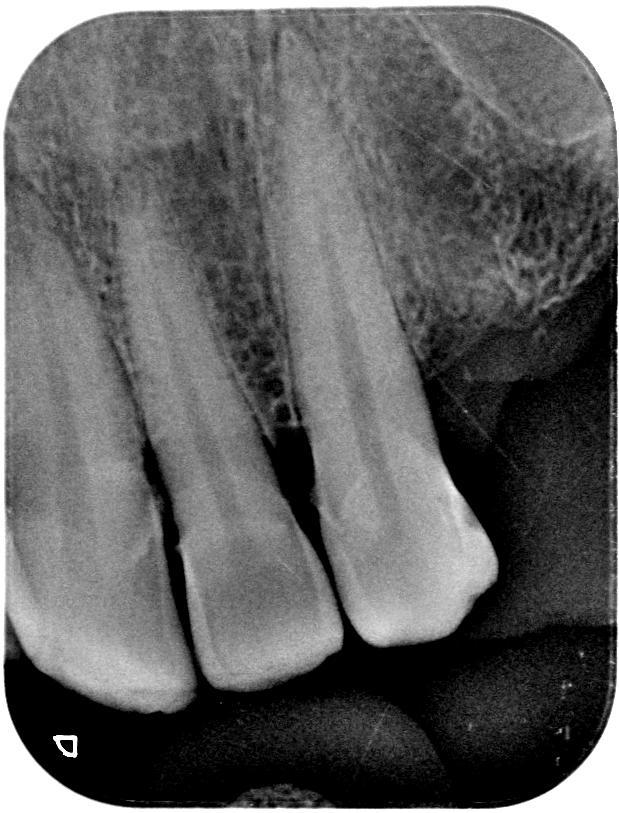individual-tooth-8tto: (281, 41, 500, 636), (126, 166, 346, 683)
